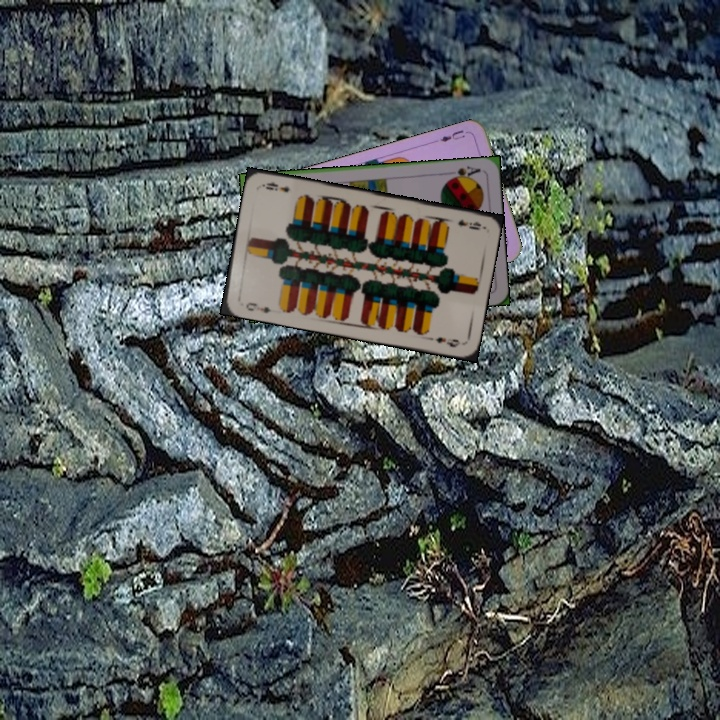E9: (242, 298, 273, 316), (454, 215, 483, 232)
EU: (436, 126, 472, 145)
SA: (444, 162, 483, 183)
